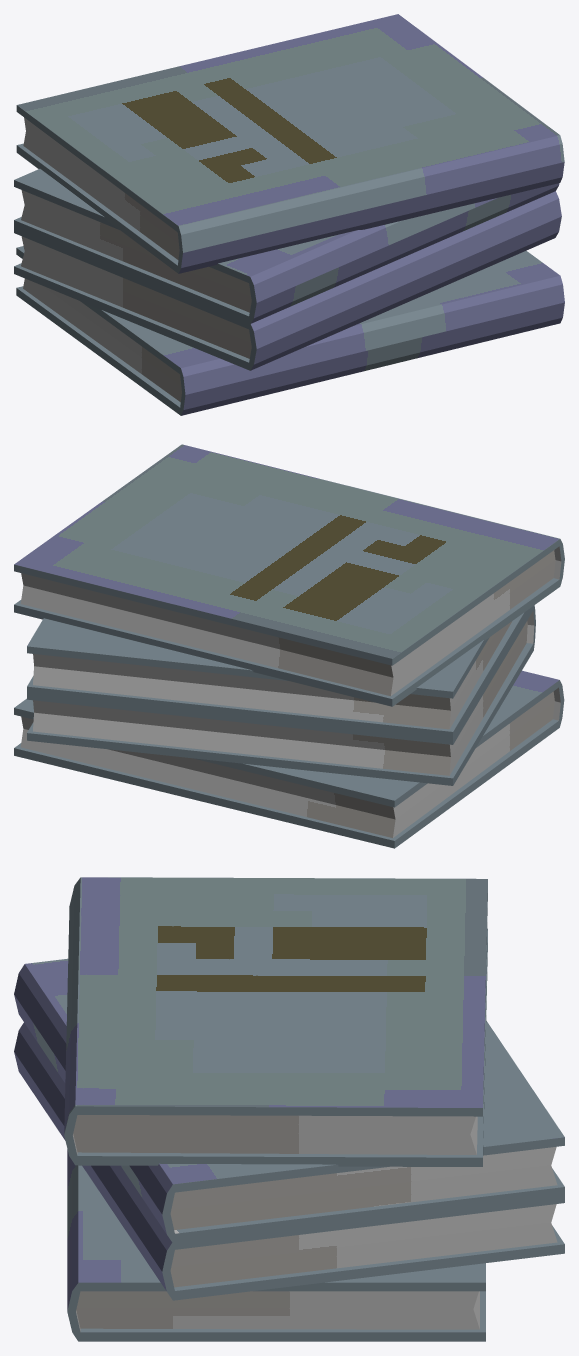
File: book3.fbx
3 renders of one model, top to bottom at view 1: azimuth 30°, elevation 25°; view 2: azimuth 150°, elevation 25°; view 3: azimuth 270°, elevation 25°, orthographic. The views are drawn at different scales.
Parts seen in each view (by area): view 1: Cube.008; view 2: Cube.008; view 3: Cube.008.
Part boxes in pixels (box(x1,y1,x2,y2)): Cube.008: box(14, 14, 564, 415); Cube.008: box(14, 444, 564, 848); Cube.008: box(14, 877, 564, 1341).
Size of the model in its own units: 220 by 89.62 by 191.
1 material, 1 textured.
